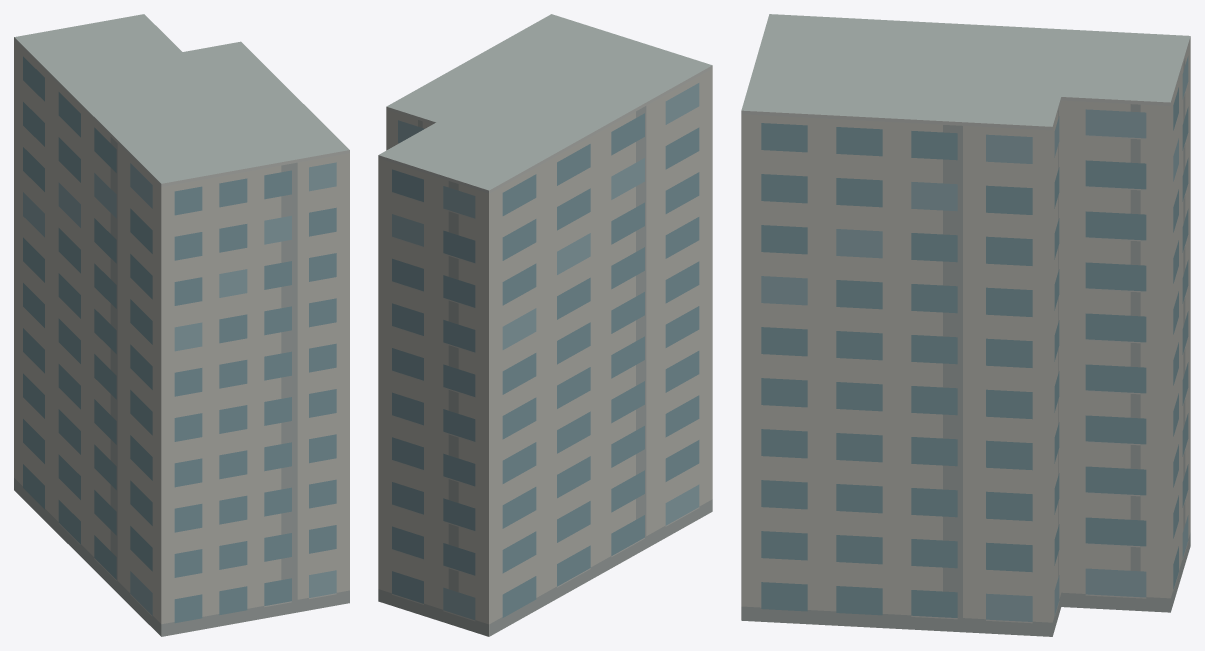
File: residential-ba830212-1102-4503-b4c5-4c58b49d122d.glb
3 views of the same model, side by side, from view 1: azimuth 30°, elevation 25°; view 2: azimuth 150°, elevation 25°; view 3: azimuth 270°, elevation 25° (orthographic). The views are drawn at different scales.
Parts seen in each view (by area): view 1: residential-ba830212-1102-4503-b4c5-4c58b49d122d.tmp; view 2: residential-ba830212-1102-4503-b4c5-4c58b49d122d.tmp; view 3: residential-ba830212-1102-4503-b4c5-4c58b49d122d.tmp.
Part boxes in pixels (x1,y1,x2,y2): residential-ba830212-1102-4503-b4c5-4c58b49d122d.tmp: (14, 14, 349, 636); residential-ba830212-1102-4503-b4c5-4c58b49d122d.tmp: (378, 14, 712, 636); residential-ba830212-1102-4503-b4c5-4c58b49d122d.tmp: (741, 14, 1190, 636).
Bounding box in the file's own units: 16.14 × 34 × 27.15.
